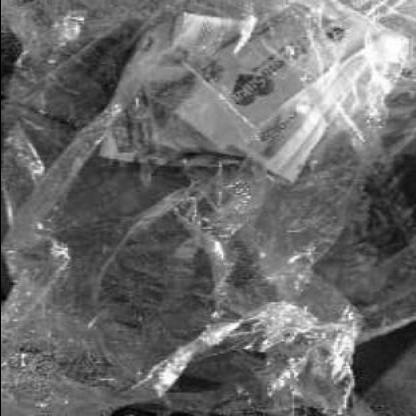objects: (18, 4, 371, 404)
